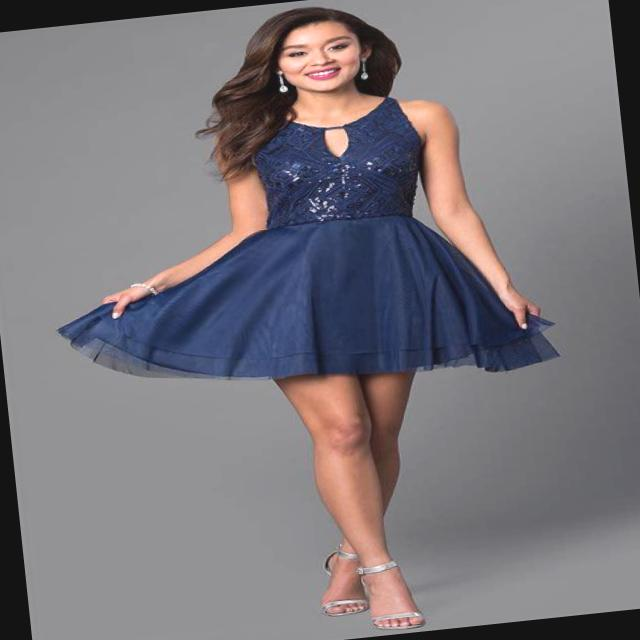dress: (36, 80, 558, 417)
